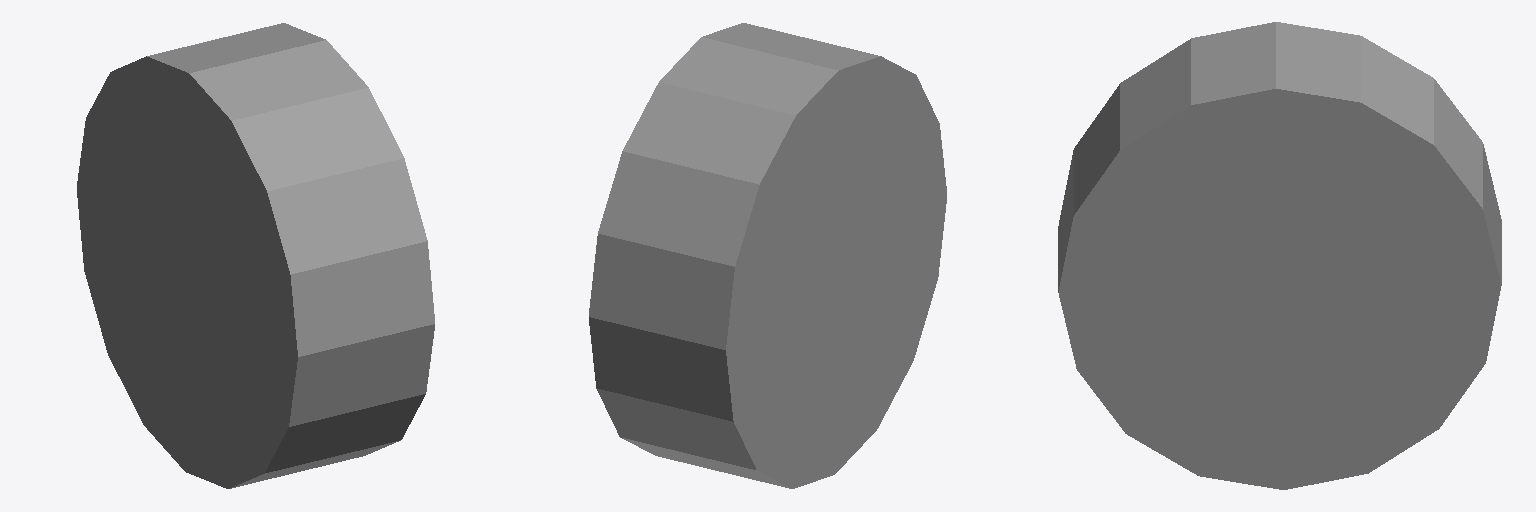
The model's file is Carro_Llanta04.obj.
The picture shows the model from 3 angles: view 1: azimuth 30°, elevation 25°; view 2: azimuth 150°, elevation 25°; view 3: azimuth 270°, elevation 25°; orthographic projection.
Visible parts, largest first — view 1: Llanta_04; view 2: Llanta_04; view 3: Llanta_04.
Part boxes in pixels (bbox=[...]): Llanta_04: bbox=[77, 23, 434, 488]; Llanta_04: bbox=[589, 23, 946, 488]; Llanta_04: bbox=[1058, 22, 1501, 489].
Bounding box in the file's own units: 9.96 × 27.84 × 27.84.